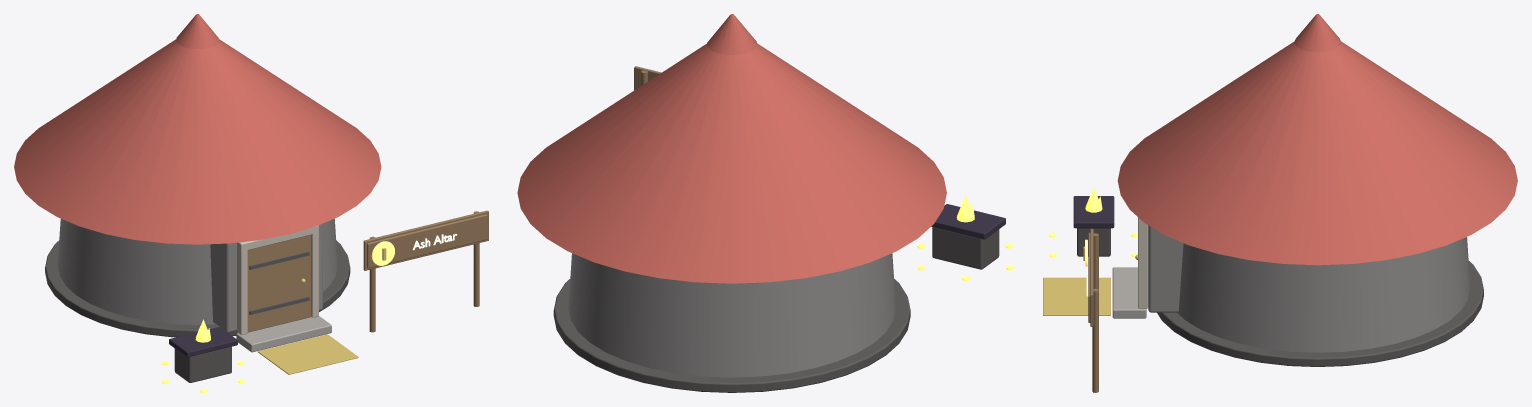
File: ash_altar.fbx
The picture shows the model from 3 angles, left to right: view 1: azimuth 30°, elevation 25°; view 2: azimuth 150°, elevation 25°; view 3: azimuth 270°, elevation 25°; orthographic projection. The views are drawn at different scales.
Parts seen in each view (by area): view 1: ash_altar; view 2: ash_altar; view 3: ash_altar.
Part boxes in pixels (x1,y1,x2,y2): ash_altar: [14, 14, 488, 392]; ash_altar: [517, 14, 1014, 392]; ash_altar: [1043, 14, 1517, 392].
Size of the model in its own units: 12.84 by 9.2 by 14.
